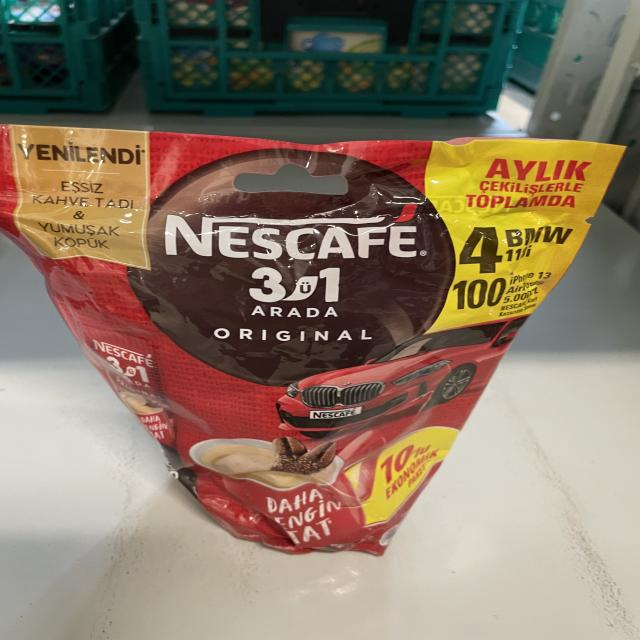object_name: (0, 128, 620, 562)
